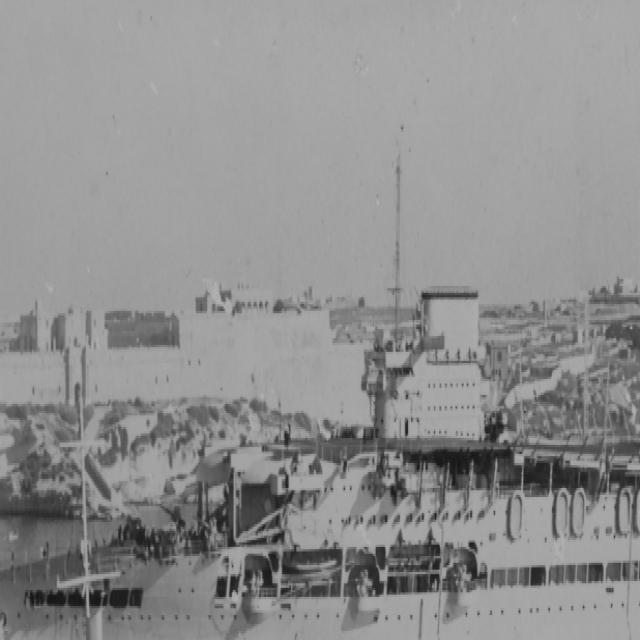Portanaves: (1, 248, 640, 640)
